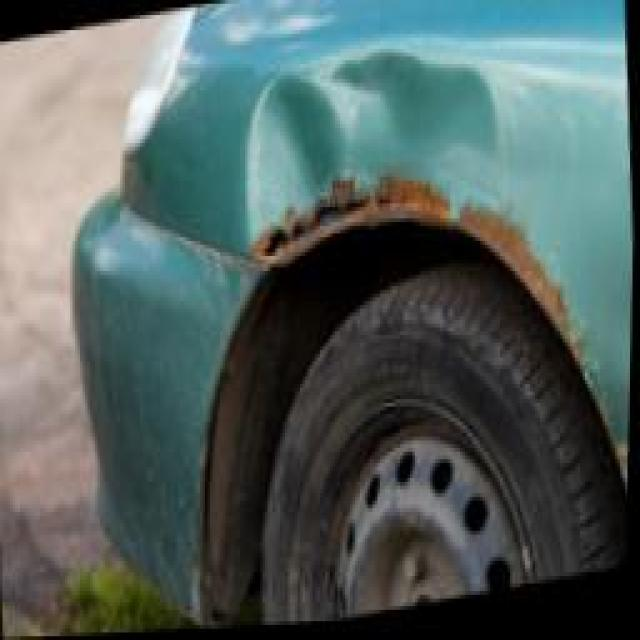Bumper: (202, 24, 634, 490)
